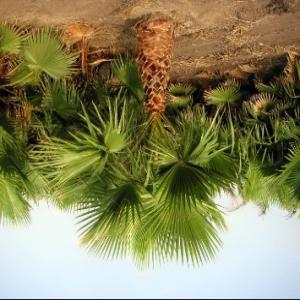palm tree: (0, 13, 299, 271)
